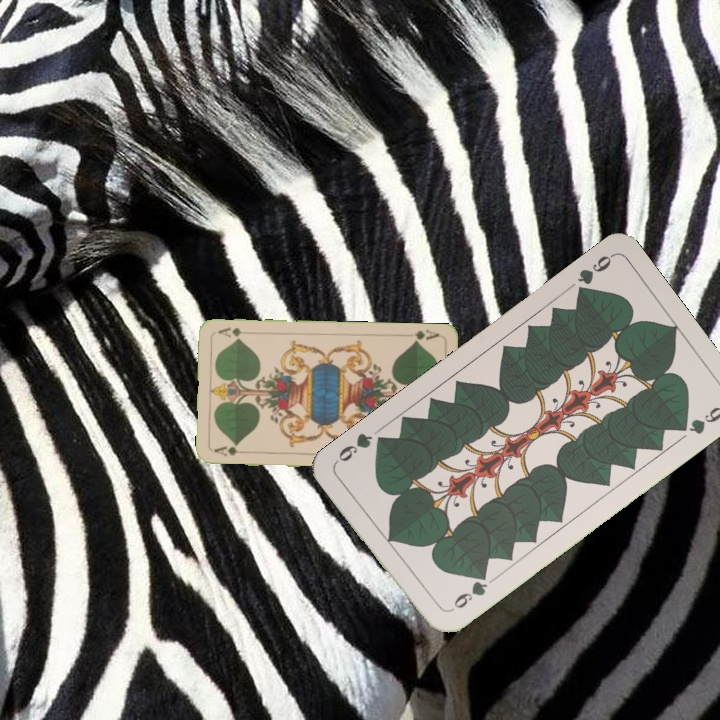G9: (444, 568, 491, 615), (572, 250, 616, 300)
GA: (210, 442, 251, 459), (410, 326, 442, 346)
